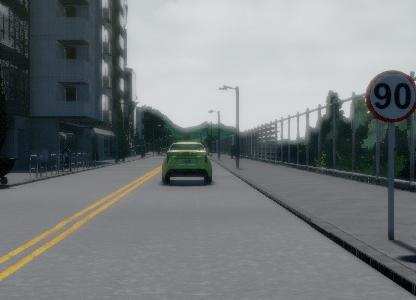Speed_90: (364, 68, 416, 125)
